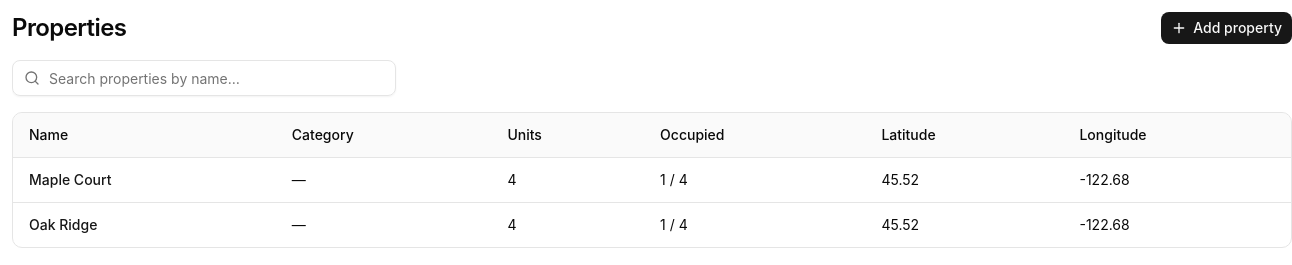
Test case: PropertiesPage › filters the list via the search box
This screenshot has width=1292, height=265.
Expected: the link "Maple Court" is shown, [29, 171, 111, 188]
Expected: the link "Oak Ridge" is shown, [29, 216, 97, 233]
Type "oak" into the search field labelled "Search properties by name" at coordinates (204, 78), box [12, 60, 396, 96]
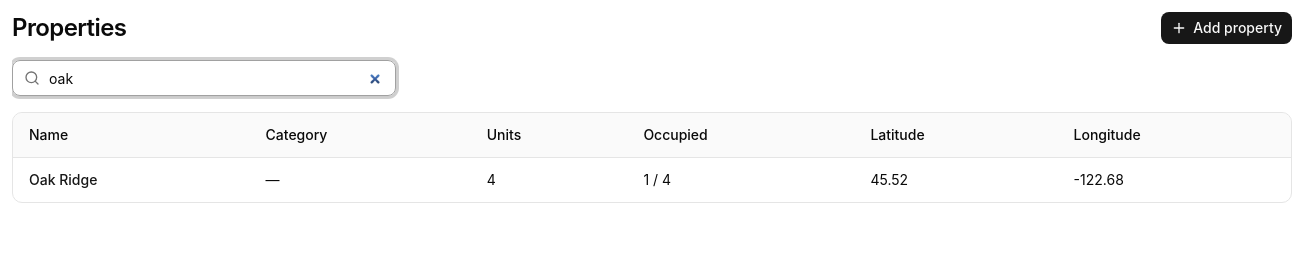
Expected: the link "Oak Ridge" is shown, [29, 171, 97, 188]
Expected: the link "Maple Court" is gone
